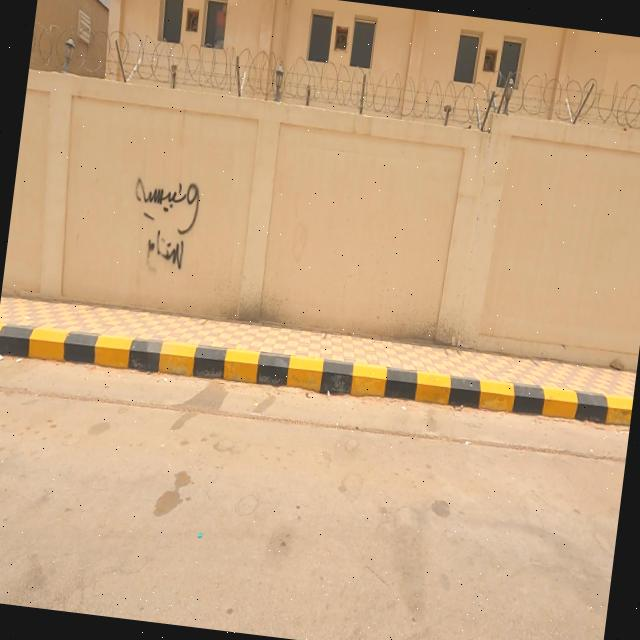Graffiti: (127, 173, 203, 271)
